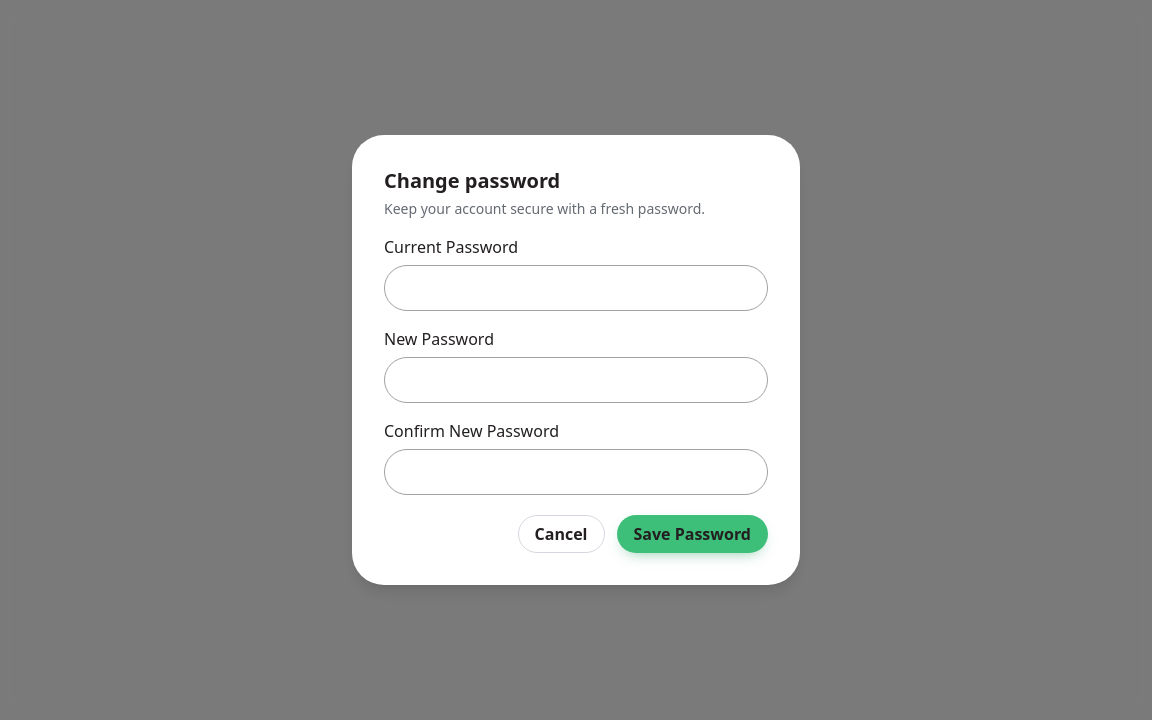
it: ResetPasswordModal › shows validation error when new passwords do not match
In the password field labelled "Current Password": (576, 288) [384,265,768,311], type "OldPassword!123"
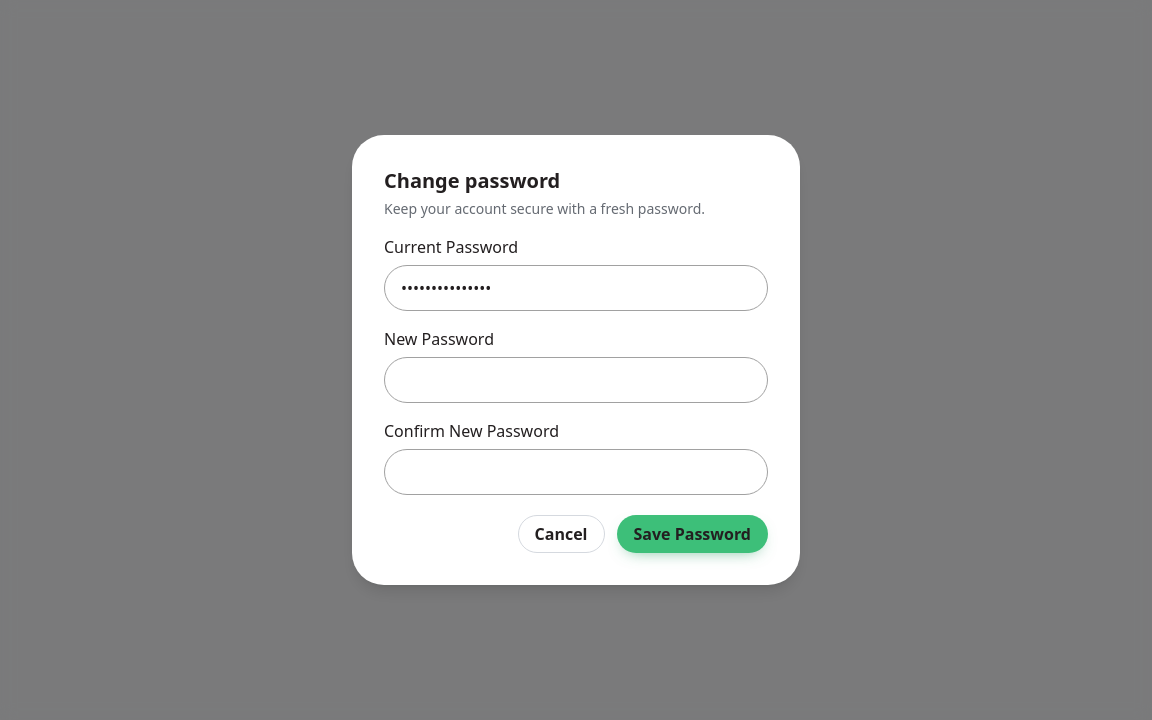
In the password field labelled "New Password": (576, 380) [384,357,768,403], type "NewPassword!456"
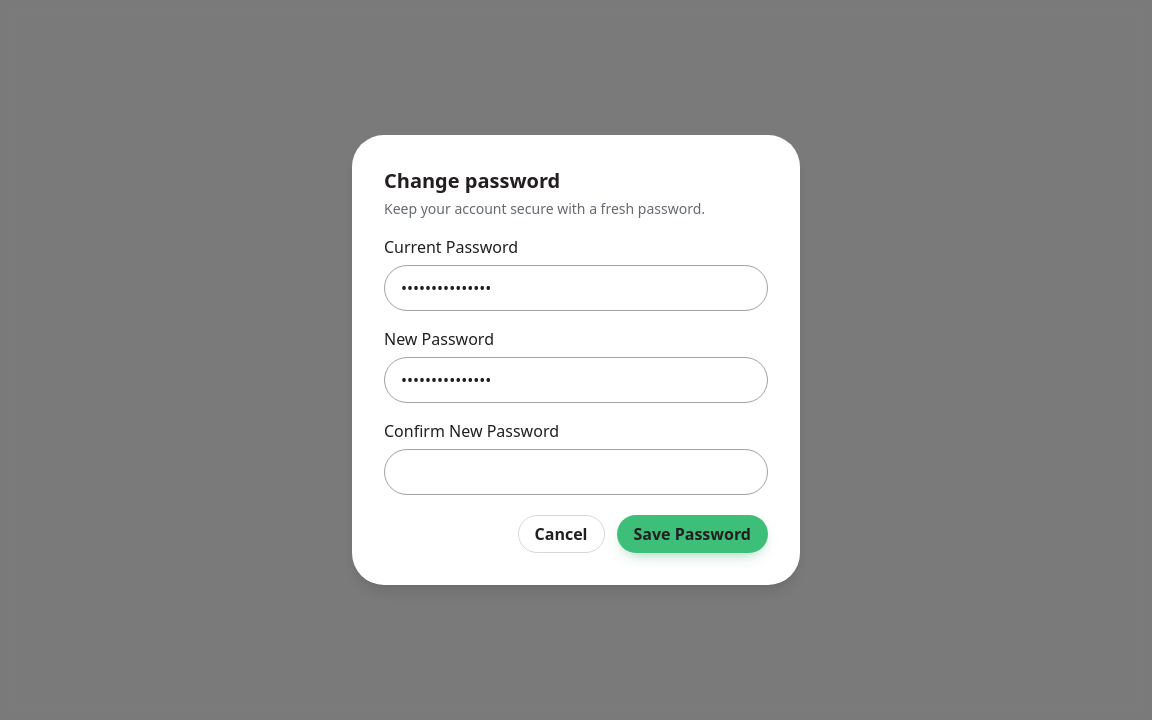
In the password field labelled "Confirm New Password": (576, 472) [384,449,768,495], type "Different!456"
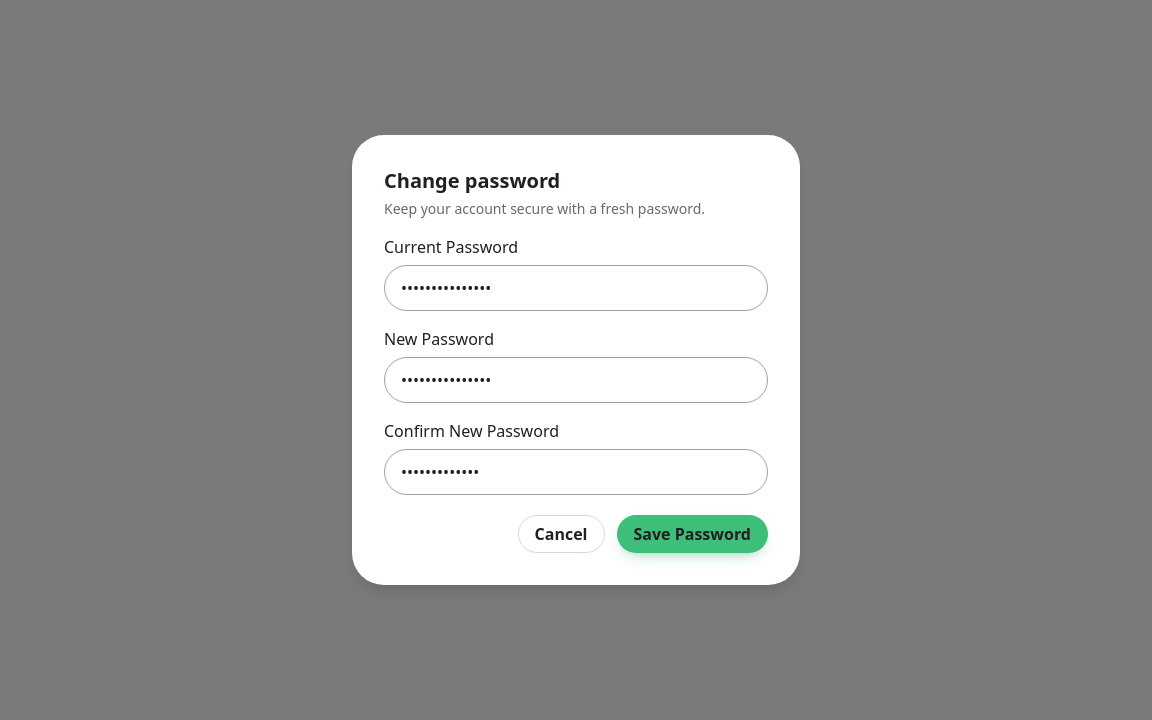
Submit the form named "Save Password", box [384,167,768,553]
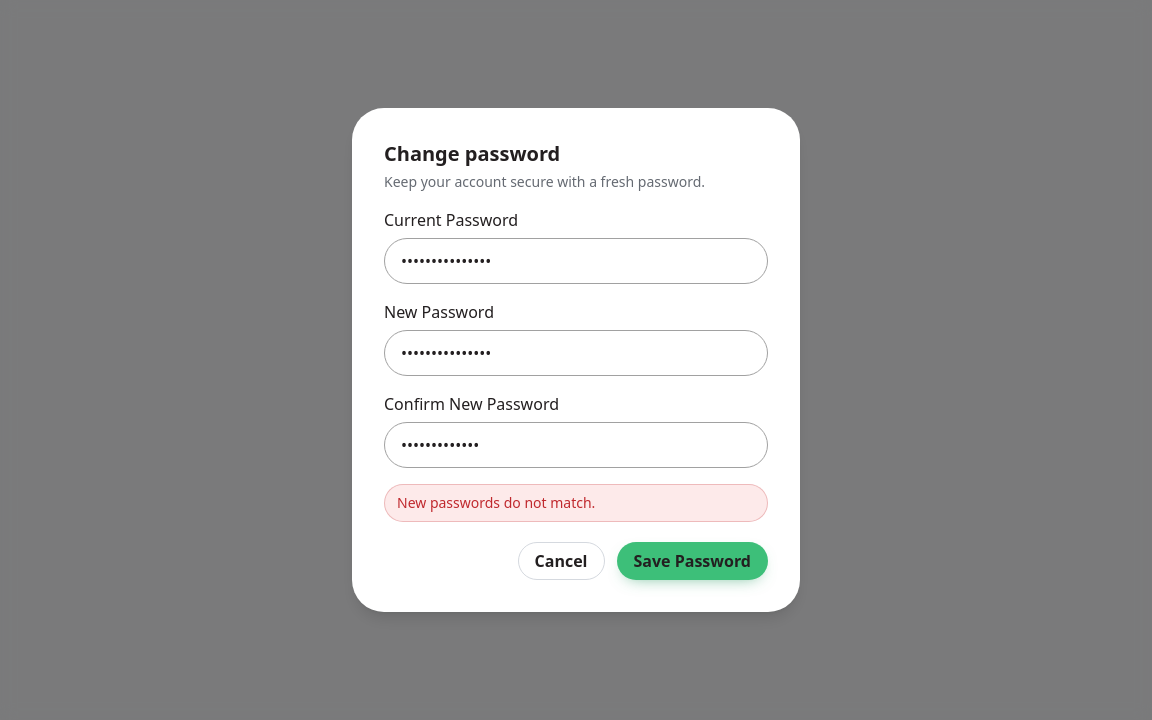
Now the message reads "New passwords do not match.", box [397,493,595,512]
